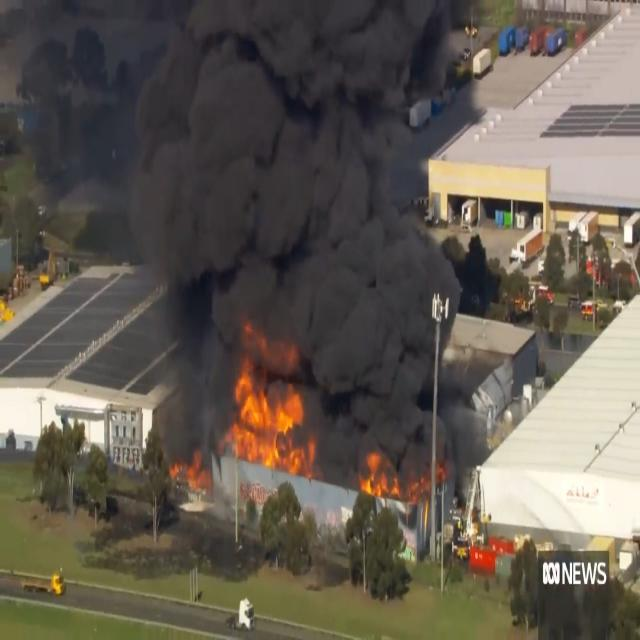fire: (228, 326, 318, 471), (361, 448, 442, 499), (180, 447, 212, 514)
